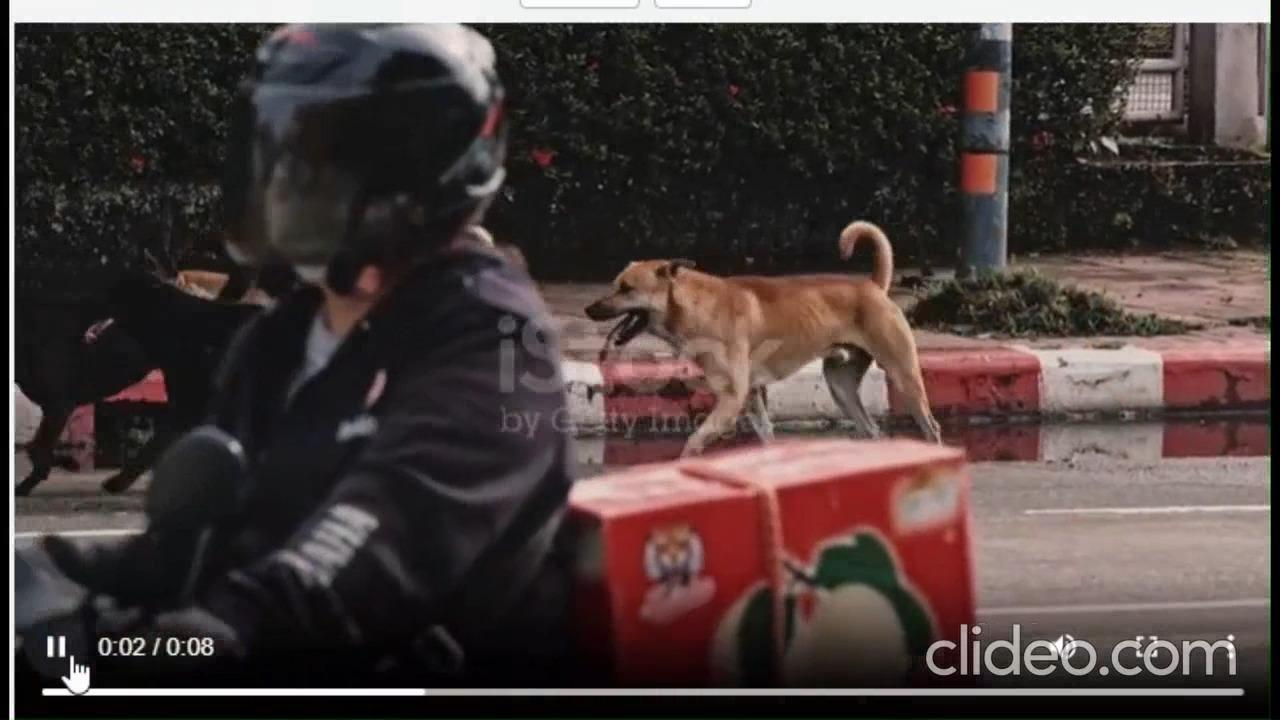dog: (589, 214, 948, 454), (39, 255, 240, 480)
